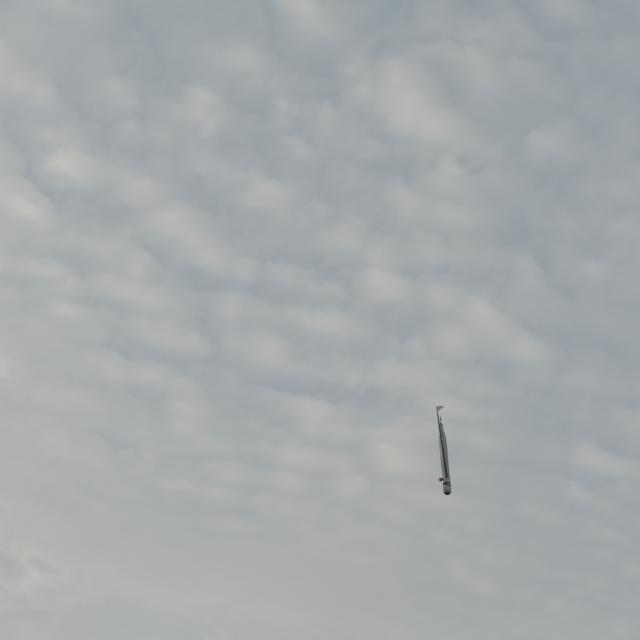Airaplan: (436, 406, 451, 496)
